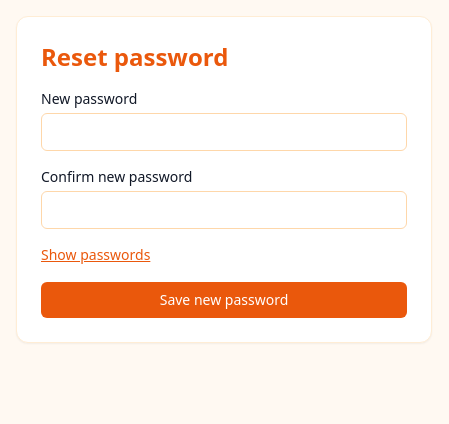
Test case: requires matching new passwords and calls Supabase updateUser
Type "newpassword" into the password field labelled "New password" at (224, 132), box left=41, top=113, right=407, bottom=151
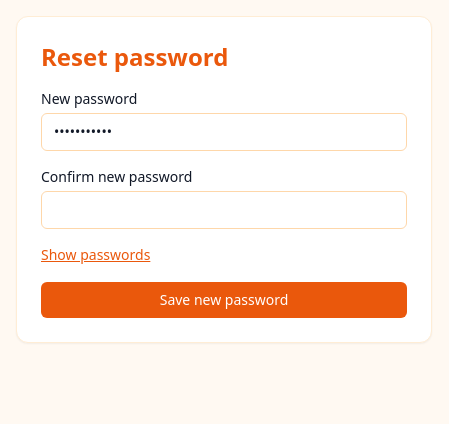
Type "different" into the password field labelled "Confirm new password" at (224, 210), box left=41, top=191, right=407, bottom=229
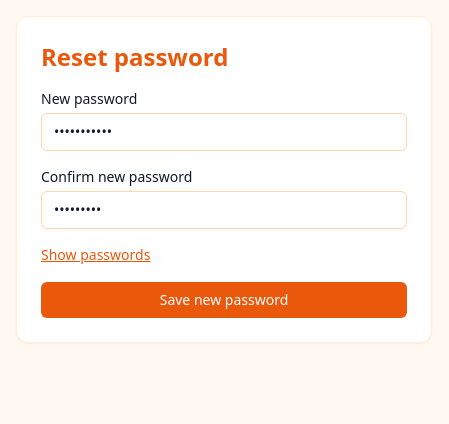
Click the button "Save new password" at (224, 300), box left=41, top=282, right=407, bottom=318
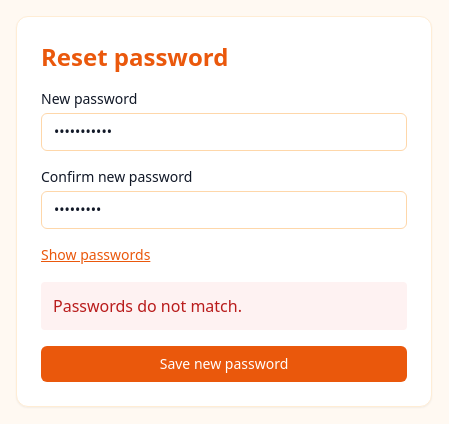
Now the message shows "do not match", box left=53, top=295, right=242, bottom=317
Type "newpassword" into the password field labelled "Confirm new password" at (224, 210), box left=41, top=191, right=407, bottom=229
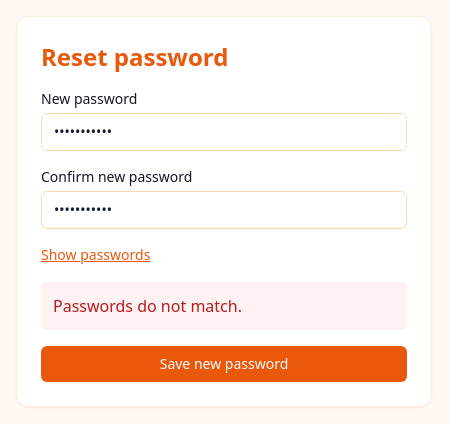
Click the button "Save new password" at (224, 364), box left=41, top=346, right=407, bottom=382
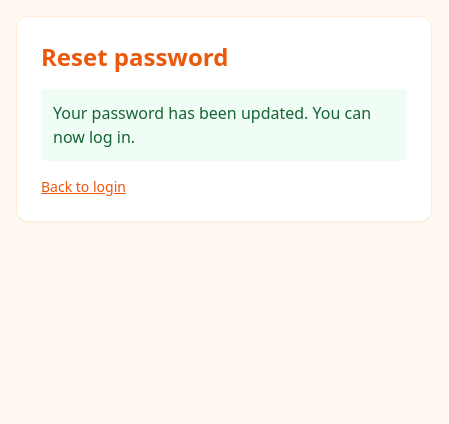
Now the message "Your password has been updated. You can now log in." is shown, box left=41, top=89, right=407, bottom=161
